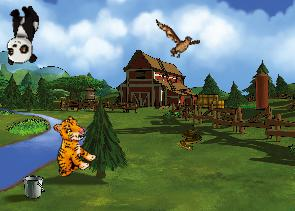eagle: (151, 19, 202, 61)
panda: (5, 4, 39, 65)
tiger: (36, 113, 103, 182)
